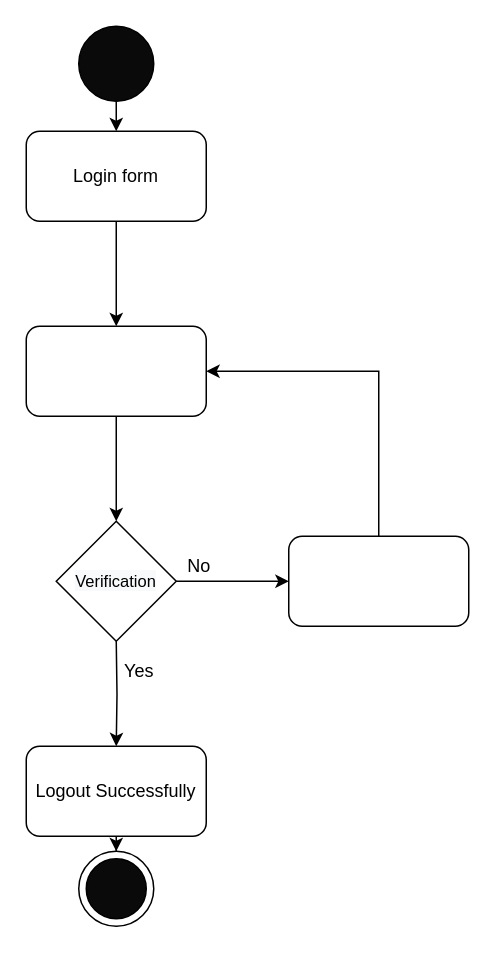
This 495x953 diagram has some shape labels left out. The box of each missing label's shape, as (x1, y1, x2, y2) in pixels:
Click on forget Password Button: (25, 325, 206, 416)
Go back to the Page: (287, 535, 469, 626)
